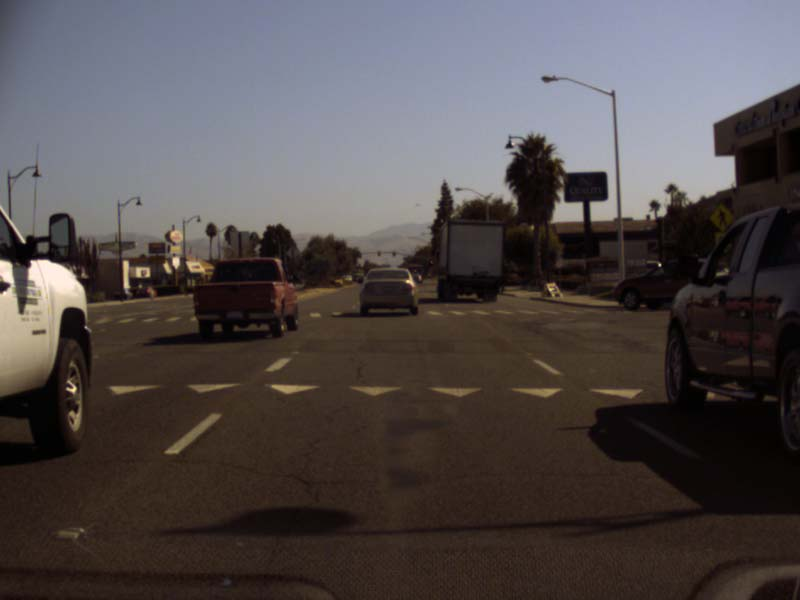Red: (428, 260, 433, 266)
Yellow: (412, 269, 416, 272)
